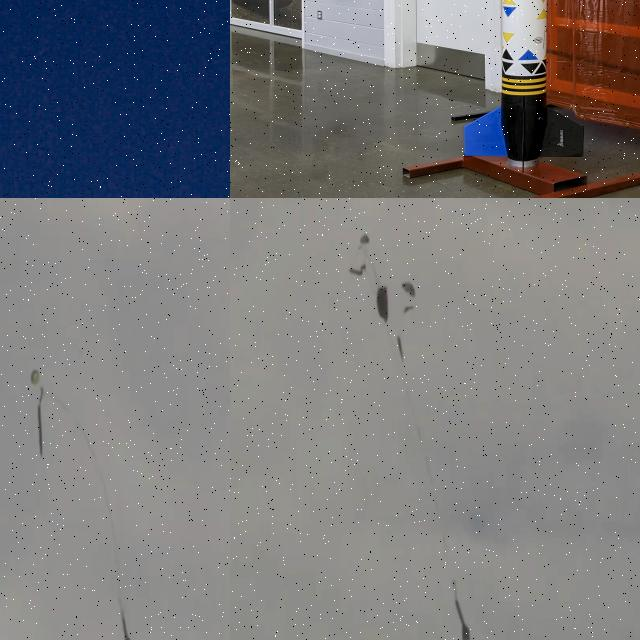Rocket: (464, 0, 584, 173), (455, 599, 470, 640), (119, 607, 134, 640)
